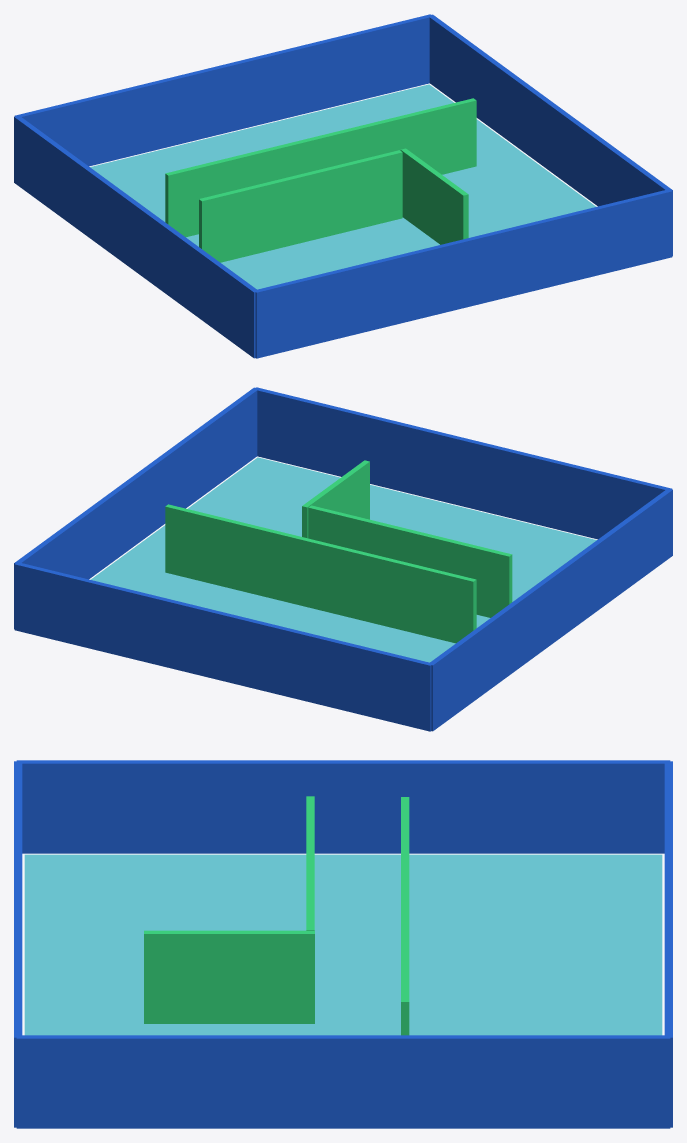
The model's file is AllMaze.fbx.
3 renders of one model, top to bottom at view 1: azimuth 30°, elevation 25°; view 2: azimuth 150°, elevation 25°; view 3: azimuth 270°, elevation 25°, orthographic. The views are drawn at different scales.
Visible parts, largest first — view 1: BackWall, FrontWall, Floor, RightWall, LeftWall, Maze.02, Maze.01, Maze.03; view 2: FrontWall, BackWall, Floor, Maze.01, RightWall, LeftWall, Maze.02, Maze.03; view 3: Floor, LeftWall, RightWall, Maze.03, FrontWall, BackWall, Maze.01, Maze.02.
Boxes of the visible parts, <box> form: BackWall: <box>254,189,672,358</box>; FrontWall: <box>14,14,432,166</box>; Floor: <box>90,84,596,289</box>; RightWall: <box>14,116,258,358</box>; LeftWall: <box>429,14,672,256</box>; Maze.02: <box>199,150,402,262</box>; Maze.01: <box>165,98,476,237</box>; Maze.03: <box>400,148,468,244</box>; FrontWall: <box>14,562,432,731</box>; BackWall: <box>254,387,672,539</box>; Floor: <box>90,457,596,662</box>; Maze.01: <box>165,504,476,643</box>; RightWall: <box>428,489,672,731</box>; LeftWall: <box>14,387,258,629</box>; Maze.02: <box>308,505,512,617</box>; Maze.03: <box>302,460,369,538</box>; Floor: <box>24,854,662,1035</box>; LeftWall: <box>16,1035,670,1128</box>; RightWall: <box>16,760,670,853</box>; Maze.03: <box>144,930,314,1023</box>; FrontWall: <box>664,761,672,1127</box>; BackWall: <box>14,761,22,1127</box>; Maze.01: <box>401,797,409,1035</box>; Maze.02: <box>306,796,314,930</box>.
Bounding box in the file's own units: 1033 × 156 × 1033.
